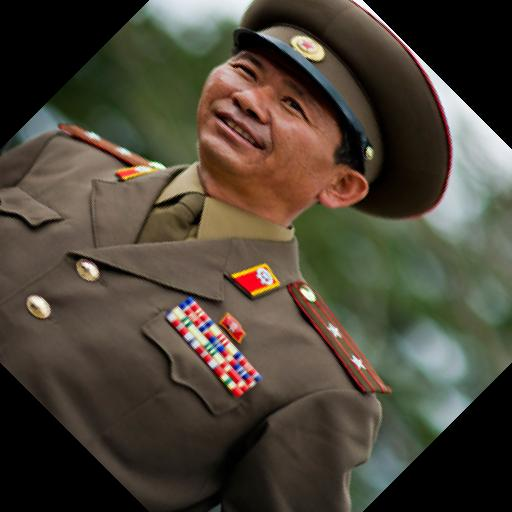north army: (10, 7, 403, 512)
